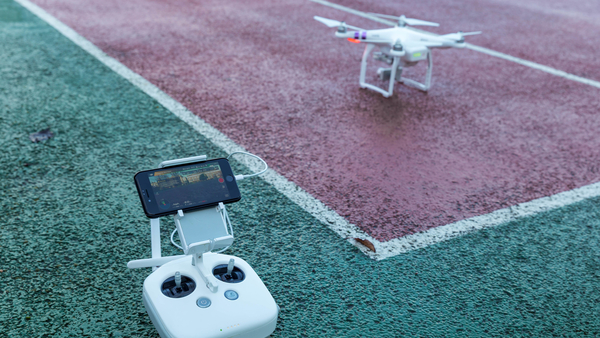drone: (311, 11, 484, 99)
